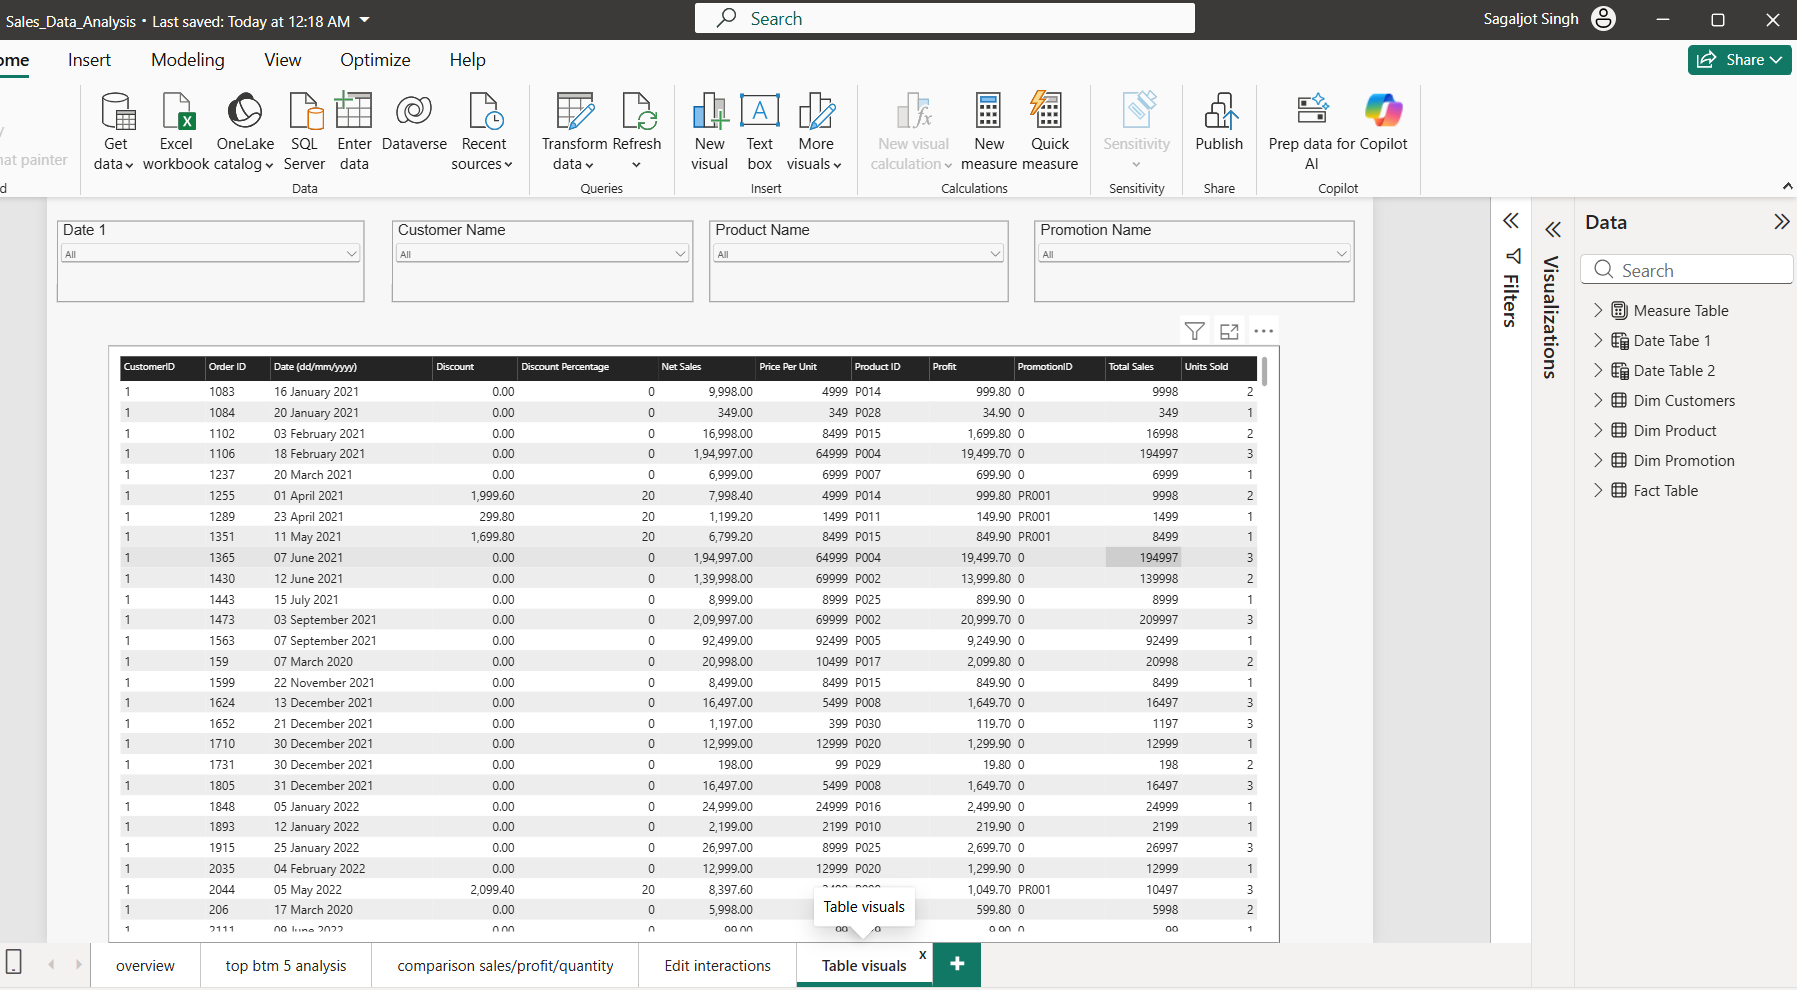

The dashboard page shown, as its layout file describes it:
{"tool":"powerbi","page":{"name":"Table visuals","canvas":[1920,1080],"ordinal":4},"visuals":[{"type":"tableEx","fields":{"Values":["Fact Table.CustomerID","Fact Table.Order ID","Fact Table.Date (dd/mm/yyyy)","Fact Table.Discount","Fact Table.Discount Percentage","Fact Table.Net Sales","Fact Table.Price Per Unit","Fact Table.Product ID","Fact Table.Profit","Fact Table.PromotionID","Fact Table.Total Sales  ","Fact Table.Units Sold"]},"box":[88.7,215.3,1695.7,865],"z":0},{"type":"slicer","fields":{"Values":["Date Tabe 1.Date"]},"box":[14.5,34.4,445.2,117.6],"z":1000},{"type":"slicer","fields":{"Values":["Dim Product.Product Name"]},"box":[959.1,34.4,432.5,117.6],"z":2000},{"type":"slicer","fields":{"Values":["Dim Customers.Customer Name"]},"box":[499.5,34.4,436.1,117.6],"z":3000},{"type":"slicer","fields":{"Values":["Dim Promotion.Promotion Name"]},"box":[1429.6,34.4,463.3,117.6],"z":4000}]}

Visuals, with their boxes on the page's 1920x1080 design canvas (x1, y1, x2, y2). These are canvas units, not pixel positions in the 1797x990 screenshot, which may show the page scaled, cropped or inside an application window:
tableEx - Fact Table.CustomerID x Fact Table.Order ID: [89,215,1784,1080]
slicer - Date Tabe 1.Date: [14,34,460,152]
slicer - Dim Product.Product Name: [959,34,1392,152]
slicer - Dim Customers.Customer Name: [500,34,936,152]
slicer - Dim Promotion.Promotion Name: [1430,34,1893,152]
